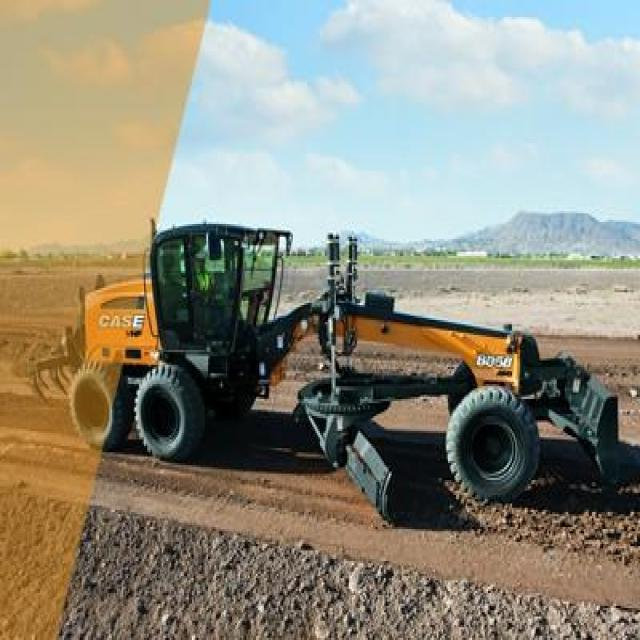Grader: (16, 215, 638, 638), (43, 211, 629, 561)
